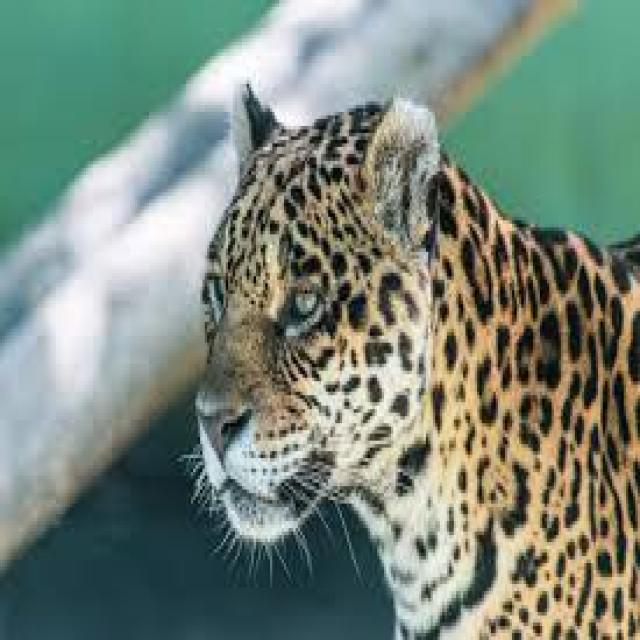Jaguar: (179, 77, 640, 640)
